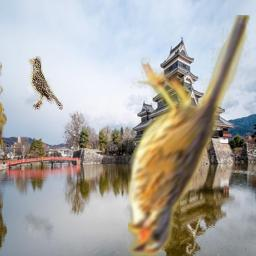Sparrow: (128, 15, 250, 256), (28, 56, 63, 110)
